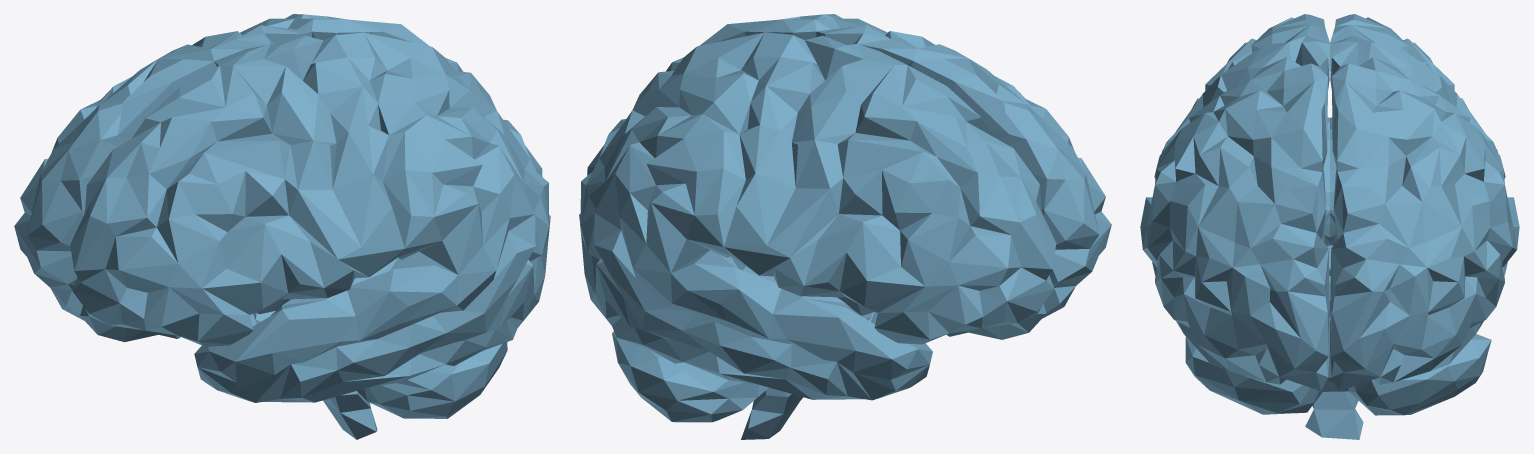
The model's file is brain1.gltf.
3 renders of one model, left to right at view 1: azimuth 30°, elevation 25°; view 2: azimuth 150°, elevation 25°; view 3: azimuth 270°, elevation 25°, orthographic. The views are drawn at different scales.
Parts seen in each view (by area): view 1: BRAIN; view 2: BRAIN; view 3: BRAIN.
Boxes of the visible parts, x1,y1,x2,y2 form: BRAIN: (14, 14, 550, 439); BRAIN: (579, 14, 1111, 439); BRAIN: (1140, 14, 1519, 439).
Size of the model in its own units: 214 by 180 by 172.
